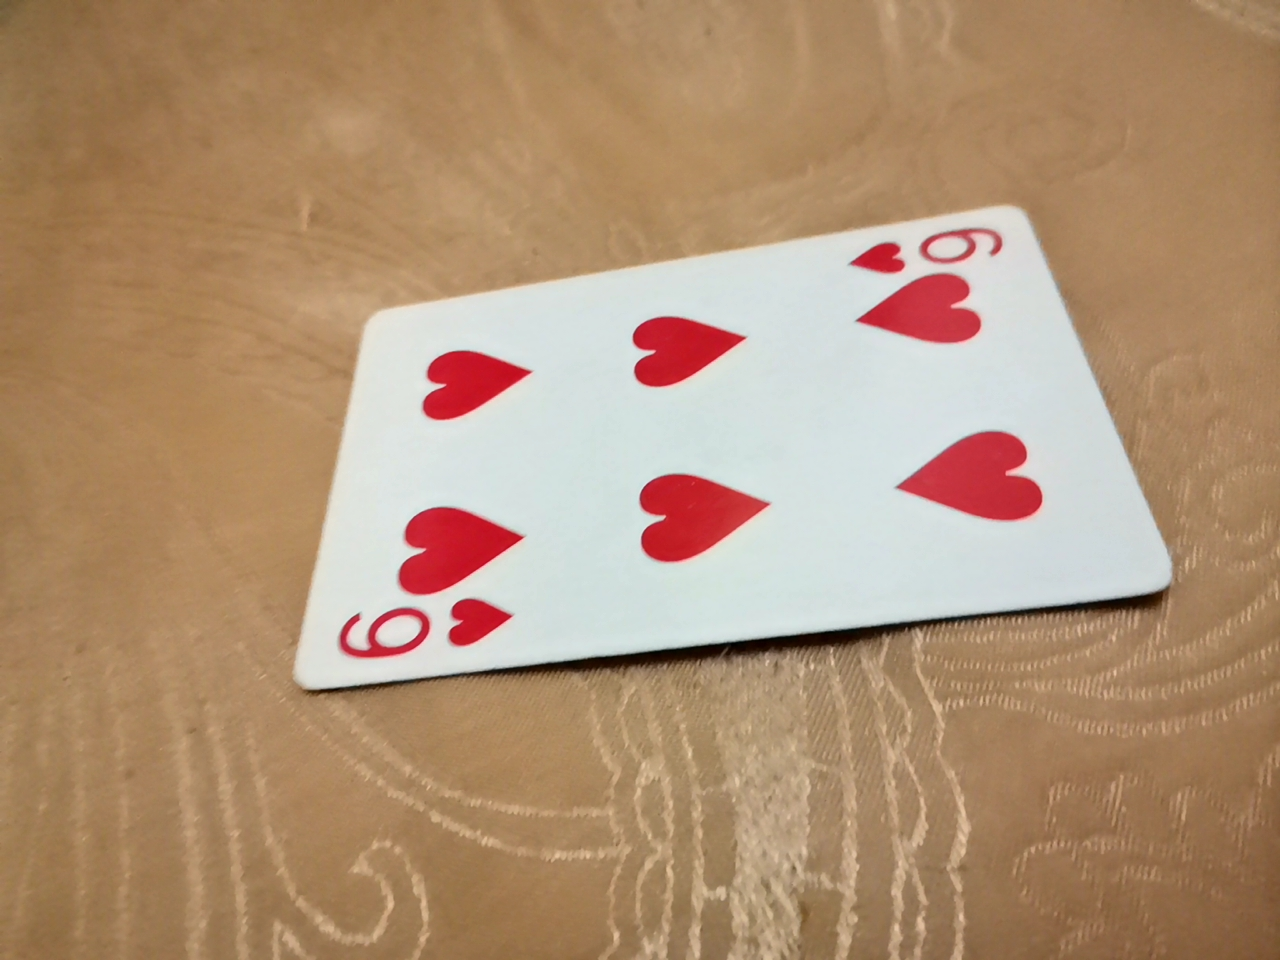hx 6: (308, 143, 1175, 671)
